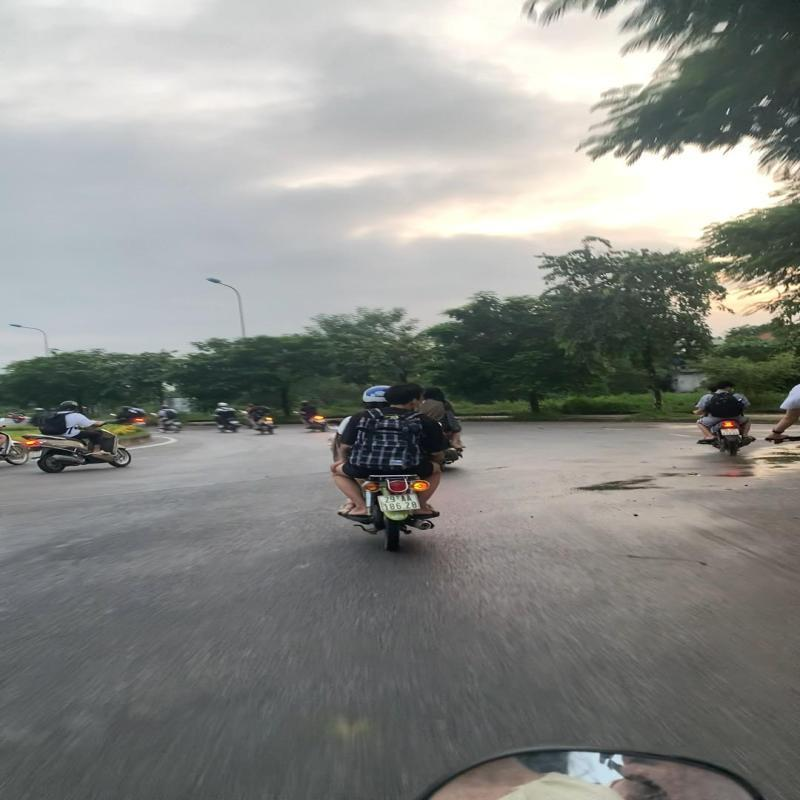helmet: (362, 384, 394, 405)
licenseplate: (374, 492, 427, 514)
motorcyclist: (324, 380, 464, 552), (692, 379, 758, 458)
nohelmet: (382, 382, 426, 408), (714, 379, 738, 392)
